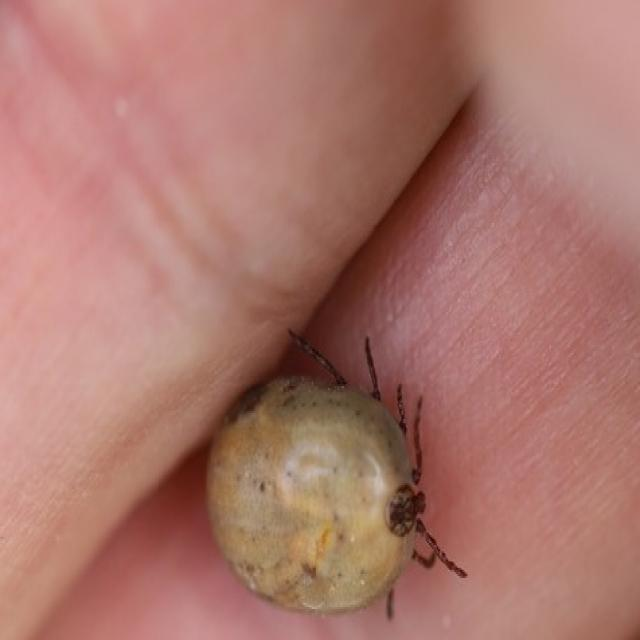Dermacentor Reticulatus-F-Fed: (206, 328, 468, 621)
